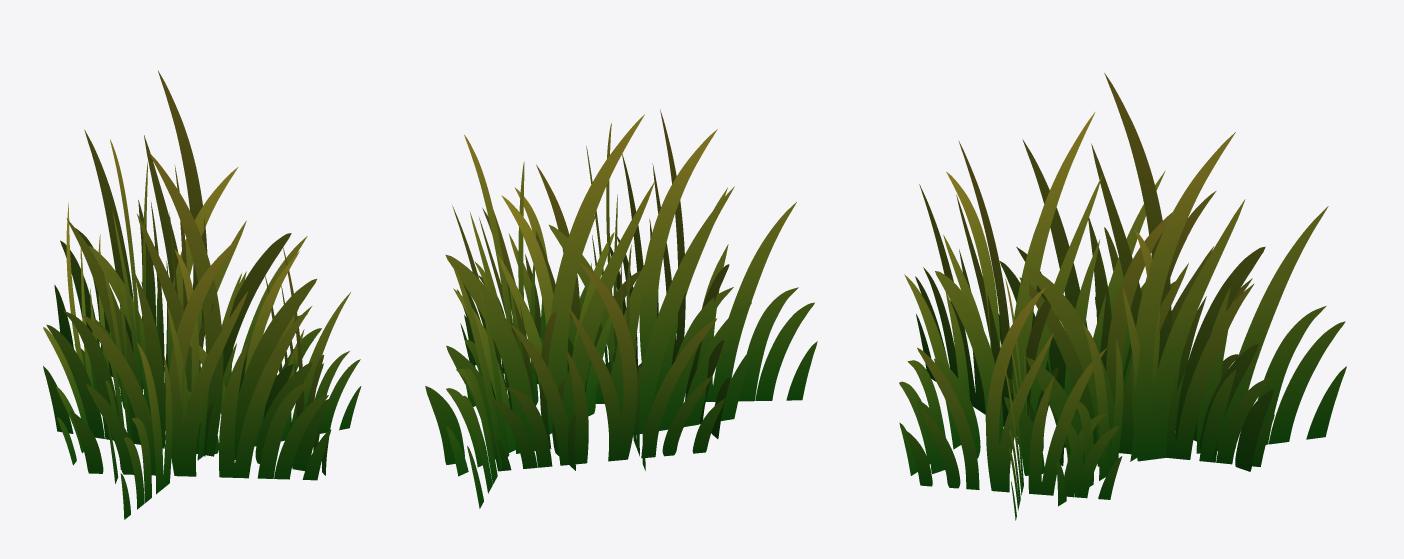
Rendered from low_grass_06.gltf.
The picture shows the model from 3 angles, left to right: view 1: azimuth 30°, elevation 25°; view 2: azimuth 150°, elevation 25°; view 3: azimuth 270°, elevation 25°; orthographic projection. The views are drawn at different scales.
Parts seen in each view (by area): view 1: default; view 2: default; view 3: default.
Boxes of the visible parts, x1,y1,x2,y2 form: default: (43,70,361,519); default: (425,109,817,508); default: (899,73,1346,520).
Size of the model in its own units: 0.8227 by 0.8109 by 1.04.
Materials: 1 (1 with a texture image).
